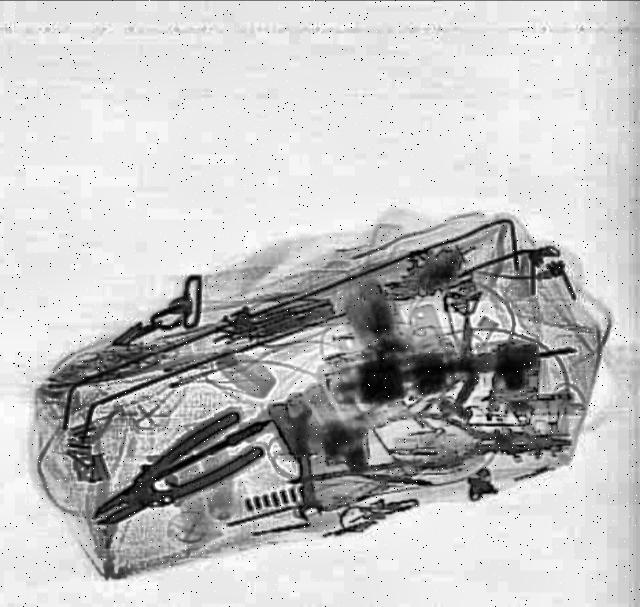Pliers: (80, 408, 270, 540), (377, 410, 573, 464)
Wrench: (282, 399, 330, 519)
